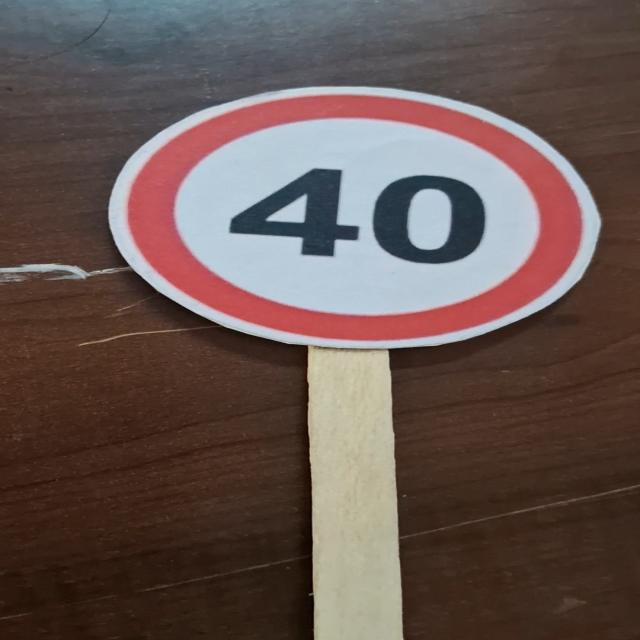Speed40: (98, 80, 604, 352)
